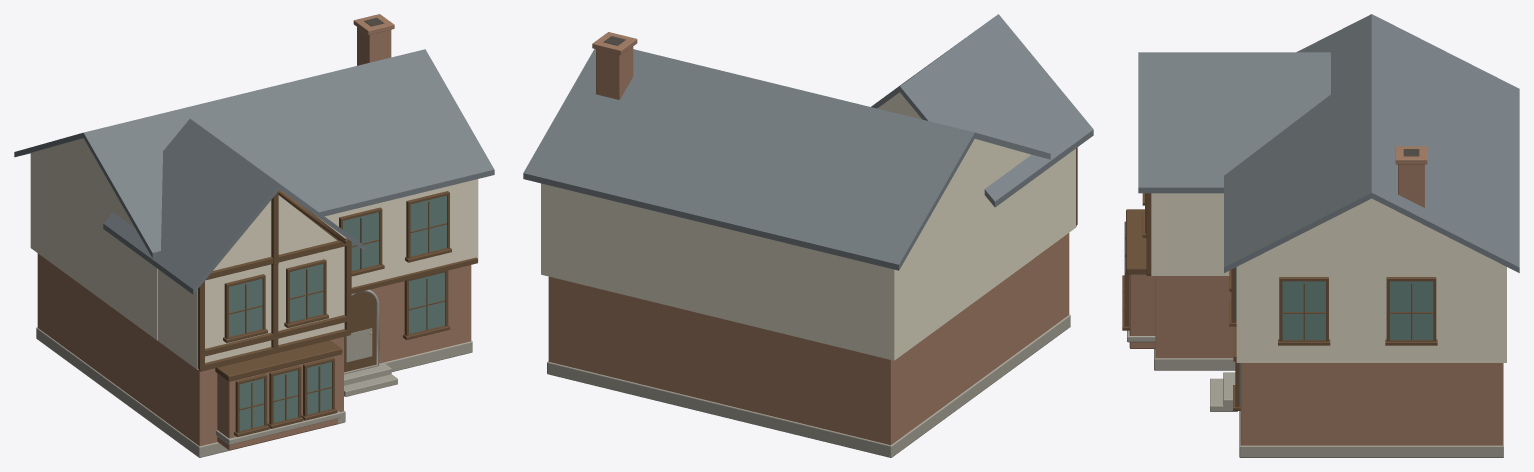
File: medium_tudor.glb
3 views of the same model, side by side, from view 1: azimuth 30°, elevation 25°; view 2: azimuth 150°, elevation 25°; view 3: azimuth 270°, elevation 25° (orthographic). The views are drawn at different scales.
Parts seen in each view (by area): view 1: Tudor upper main closed pitched roof, Tudor upper main closed gabled walls, Tudor front projecting upper wing closed pitched roof, Tudor lower main brick body, Tudor front projecting upper wing closed gabled walls, Tudor projecting wing lower brick, Tudor main foundation, Tudor ground floor box bay, Tudor bay cap, Tudor right front window inset pane, Tudor main upper window inset pane.001, Tudor paired upper casement inset pane (+22 smaller); view 2: Tudor upper main closed pitched roof, Tudor upper main closed gabled walls, Tudor lower main brick body, Tudor front projecting upper wing closed pitched roof, Tudor main foundation, Tudor front projecting upper wing closed gabled walls, Tudor projecting wing lower brick, Tudor side chimney chimney shaft, Tudor projecting wing foundation, Tudor side chimney chimney cap; view 3: Tudor upper main closed pitched roof, Tudor upper main closed gabled walls, Tudor lower main brick body, Tudor front projecting upper wing closed pitched roof, Tudor projecting wing lower brick, Tudor front projecting upper wing closed gabled walls, Tudor main foundation, Tudor right-side window inset pane.001, Tudor right-side window inset pane, Tudor ground floor box bay, Tudor bay cap, Tudor projecting wing foundation (+5 smaller).
Part boxes in pixels (x1,y1,x2,y2): Tudor upper main closed pitched roof: (14,49,494,258); Tudor upper main closed gabled walls: (30,138,478,340); Tudor front projecting upper wing closed pitched roof: (103,119,366,294); Tudor lower main brick body: (37,253,471,416); Tudor front projecting upper wing closed gabled walls: (157,195,346,369); Tudor projecting wing lower brick: (126,320,343,446); Tudor main foundation: (36,327,472,427); Tudor ground floor box bay: (217,355,337,450); Tudor bay cap: (215,340,342,381); Tudor right front window inset pane: (409,272,445,333); Tudor main upper window inset pane.001: (410,195,446,256); Tudor paired upper casement inset pane: (229,278,262,336); Tudor upper main closed pitched roof: (523,49,1050,270); Tudor upper main closed gabled walls: (541,139,1032,360); Tudor lower main brick body: (548,265,1025,445); Tudor front projecting upper wing closed pitched roof: (871,14,1093,207); Tudor main foundation: (547,347,1026,457); Tudor front projecting upper wing closed gabled walls: (877,92,1075,258); Tudor projecting wing lower brick: (1025,233,1069,346); Tudor side chimney chimney shaft: (596,46,633,99); Tudor projecting wing foundation: (988,314,1070,374); Tudor side chimney chimney cap: (592,32,637,54); Tudor upper main closed pitched roof: (1224,14,1519,272); Tudor upper main closed gabled walls: (1236,198,1506,362); Tudor lower main brick body: (1240,363,1502,445); Tudor front projecting upper wing closed pitched roof: (1138,52,1330,193); Tudor projecting wing lower brick: (1155,276,1233,358); Tudor front projecting upper wing closed gabled walls: (1151,193,1229,275); Tudor main foundation: (1239,363,1503,457); Tudor right-side window inset pane.001: (1389,281,1433,340); Tudor right-side window inset pane: (1282,281,1325,340); Tudor ground floor box bay: (1129,274,1155,348); Tudor bay cap: (1126,209,1146,274); Tudor projecting wing foundation: (1154,349,1235,370).
Bounding box in the file's own units: 10.64 × 8.22 × 10.
